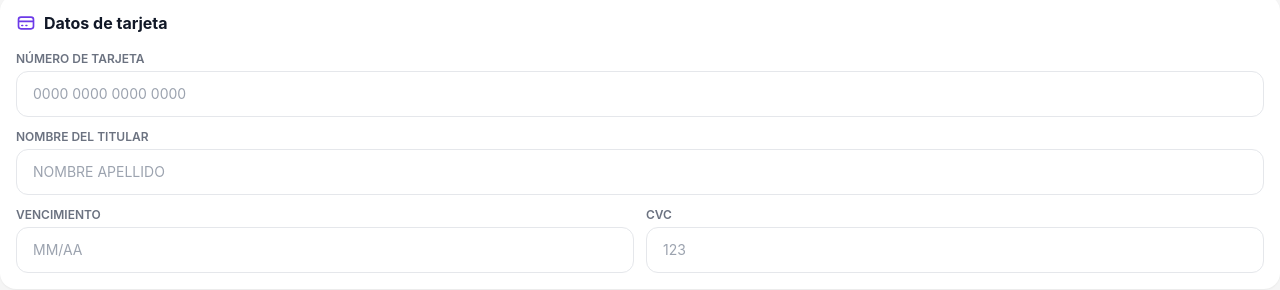
Test: CardForm › should format expiry with slash
Type "1228" into the field with placeholder "MM/AA".
click(325, 250); type("1228")  # box 16,227 -> 634,273
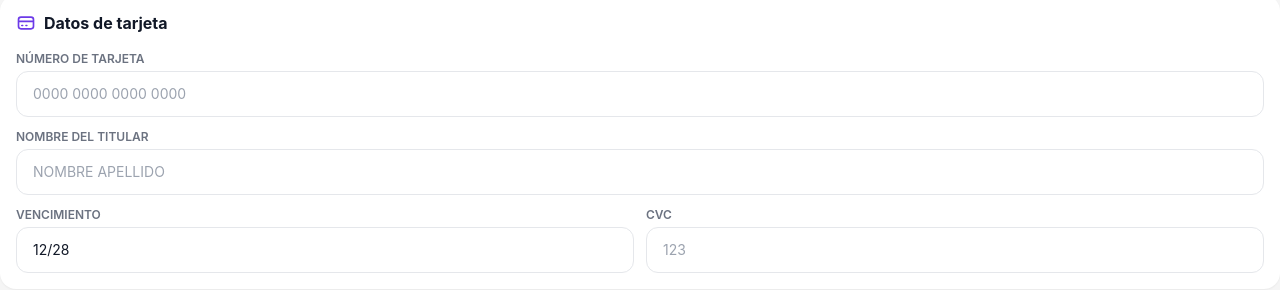
Now the field with placeholder "MM/AA" holds "12/28", box 16,227 -> 634,273
